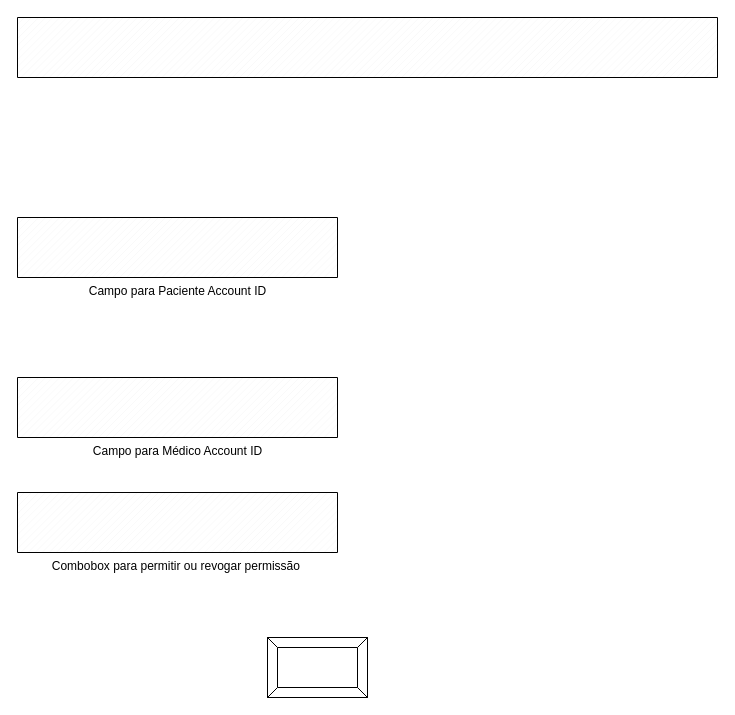
Image size: 735x715. Some labels were removed from this diagram. Here are the shapes that lost their labels. From the top down, the centre of each, then its label:
point 367,47: Significado essa página.
point 317,667: Submeter
